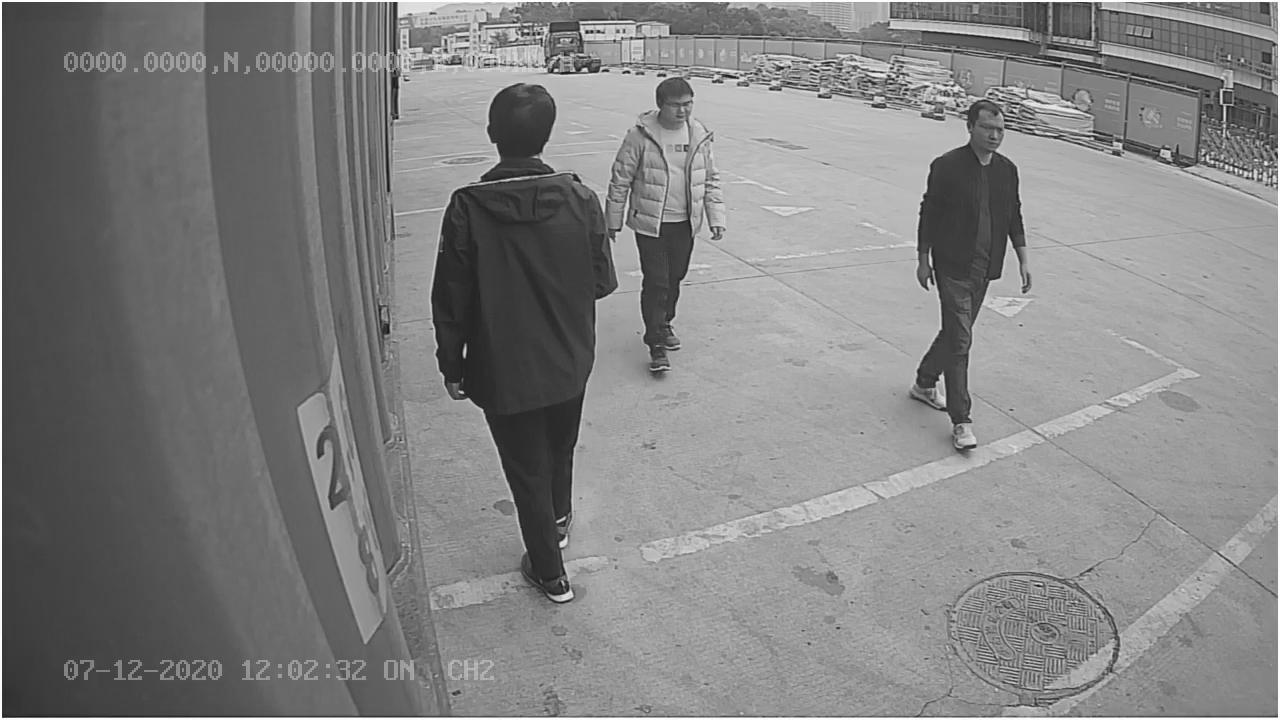person: (911, 94, 1036, 450)
